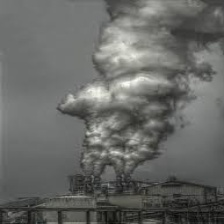smoke: (77, 1, 214, 177)
